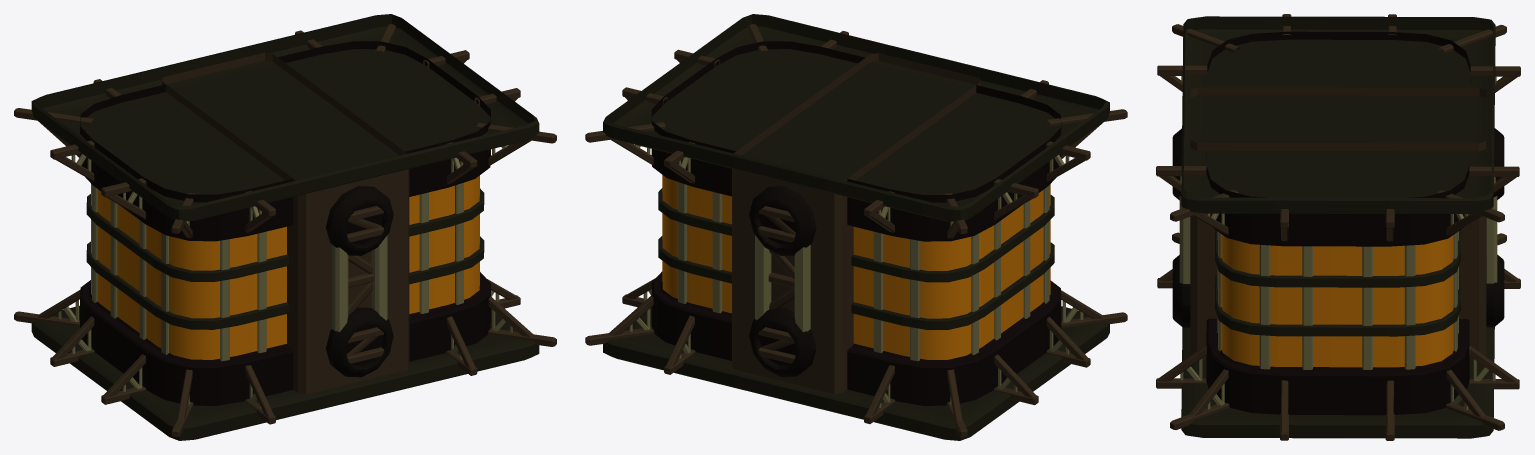
File: OBJ_Bloc_Vitre.fbx
3 views of the same model, side by side, from view 1: azimuth 30°, elevation 25°; view 2: azimuth 150°, elevation 25°; view 3: azimuth 270°, elevation 25° (orthographic). The views are drawn at different scales.
Visible parts, largest first — view 1: Object002, Object003; view 2: Object002, Object003; view 3: Object002, Object003.
Boxes of the visible parts, x1,y1,x2,y2 form: Object002: [14, 14, 556, 440]; Object003: [326, 186, 393, 377]; Object002: [585, 14, 1127, 440]; Object003: [749, 186, 816, 376]; Object002: [1156, 14, 1520, 440]; Object003: [1172, 128, 1504, 327].
Size of the model in its own units: 4025 by 2170 by 2986.
